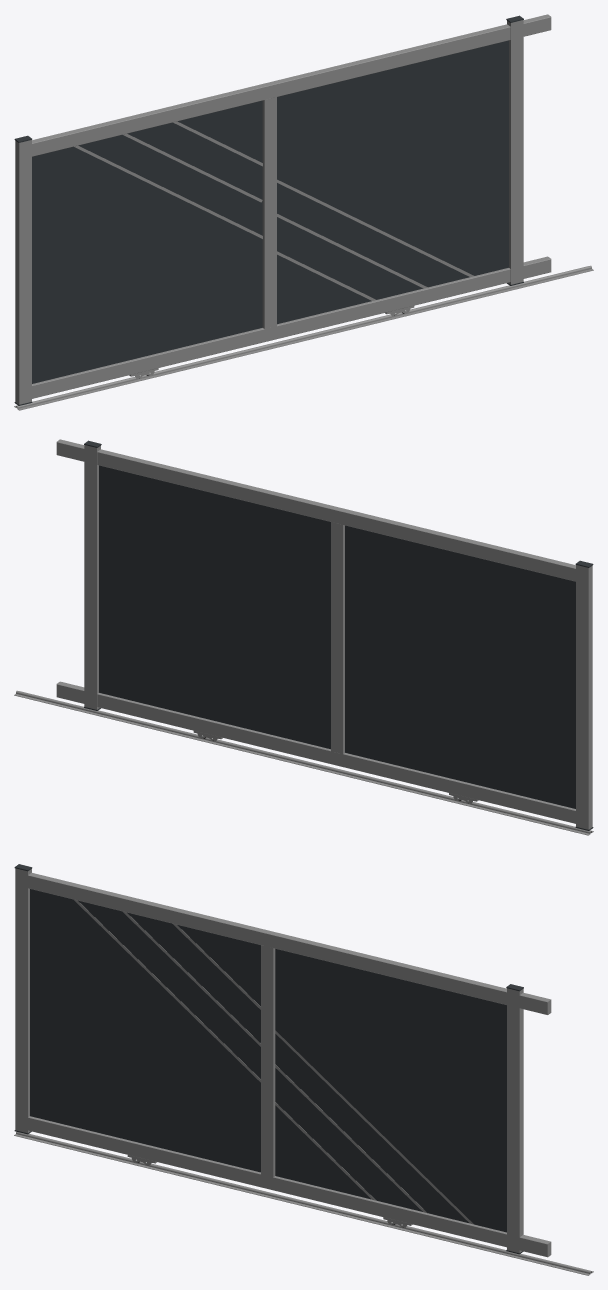
The picture shows the model from 3 angles, top to bottom: view 1: azimuth 30°, elevation 25°; view 2: azimuth 150°, elevation 25°; view 3: azimuth 330°, elevation 25°; orthographic projection.
Visible parts, largest first — view 1: Chapa Alucobond026, Shape107412660, Shape107412659, Pilar, Pilar001, Rail, Shape107412813, Rectangle046, Rectangle041, Rectangle045, Rectangle043; view 2: Chapa Alucobond026, Shape107412660, Shape107412659, Pilar, Pilar001, Rail, Shape107412813; view 3: Chapa Alucobond026, Shape107412660, Shape107412659, Pilar001, Pilar, Rail, Shape107412813, Rectangle046, Rectangle041, Rectangle045, Rectangle043.
Part boxes in pixels (<box>): Chapa Alucobond026: <box>32,40,508,383</box>; Shape107412660: <box>32,14,551,156</box>; Shape107412659: <box>32,256,551,398</box>; Pilar: <box>15,140,31,404</box>; Pilar001: <box>507,20,523,284</box>; Rail: <box>14,265,593,410</box>; Shape107412813: <box>262,97,276,328</box>; Rectangle046: <box>277,179,474,276</box>; Rectangle041: <box>74,145,262,238</box>; Rectangle045: <box>277,214,427,288</box>; Rectangle043: <box>123,133,262,202</box>; Chapa Alucobond026: <box>99,465,575,808</box>; Shape107412660: <box>56,439,575,581</box>; Shape107412659: <box>56,681,575,823</box>; Pilar: <box>576,565,592,829</box>; Pilar001: <box>84,445,100,709</box>; Rail: <box>14,690,593,835</box>; Shape107412813: <box>331,522,344,753</box>; Chapa Alucobond026: <box>30,889,506,1232</box>; Shape107412660: <box>28,872,551,1014</box>; Shape107412659: <box>28,1116,551,1257</box>; Pilar001: <box>507,988,523,1253</box>; Pilar: <box>15,868,31,1133</box>; Rail: <box>14,1131,593,1275</box>; Shape107412813: <box>261,945,275,1177</box>; Rectangle046: <box>275,1030,473,1224</box>; Rectangle041: <box>73,899,260,1082</box>; Rectangle045: <box>275,1064,427,1213</box>; Rectangle043: <box>122,911,260,1046</box>.
Bounding box in the file's own units: 3600 × 1606 × 60.02.
9 materials, 4 textured.
